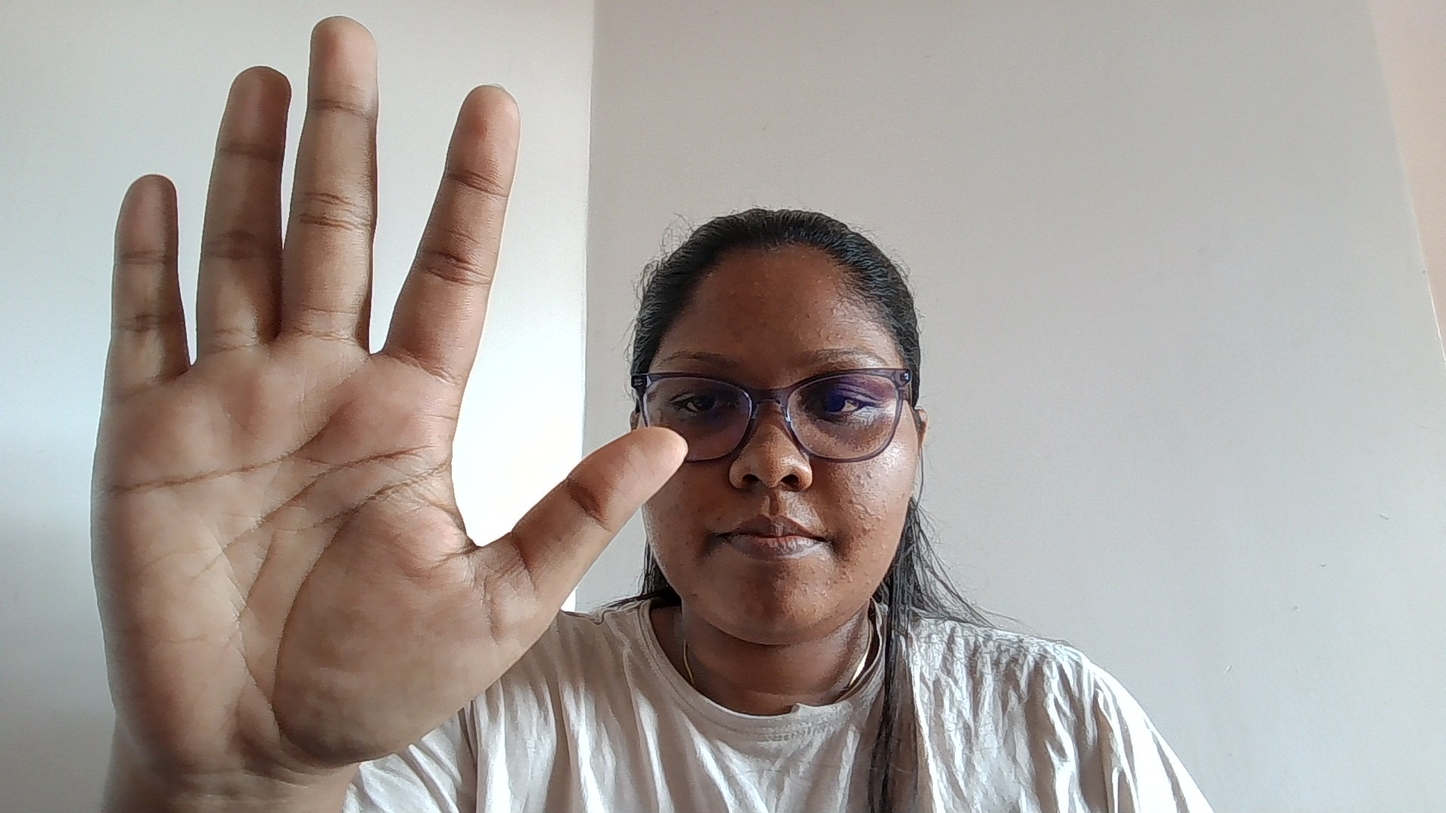Hello: (105, 16, 699, 784)
